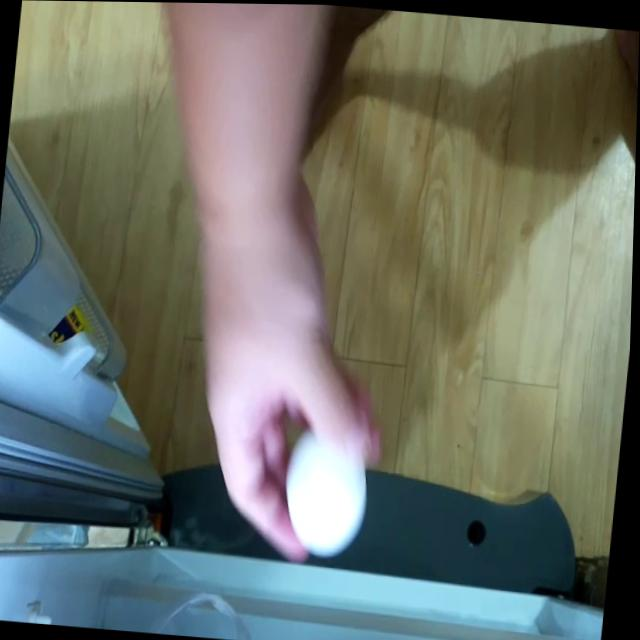egg: (286, 425, 372, 555)
